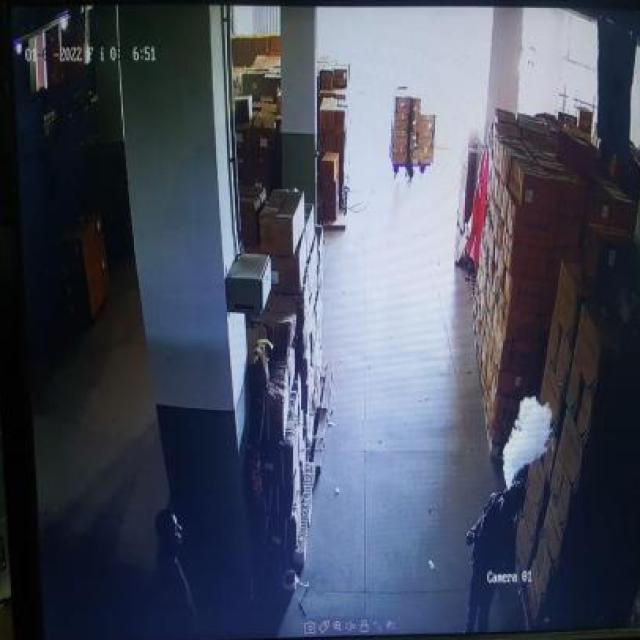fire: (497, 382, 556, 483)
